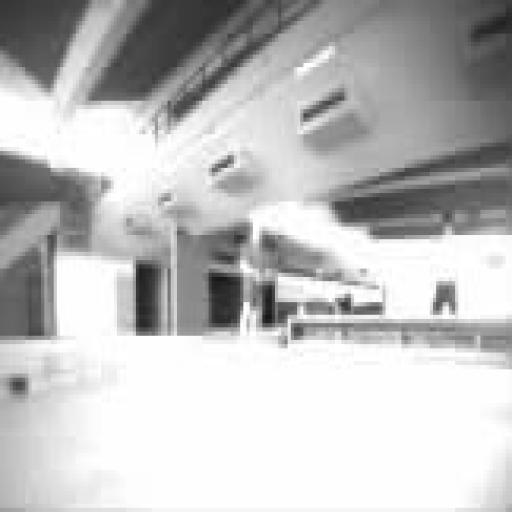human: (430, 216, 465, 346), (241, 227, 262, 335)
